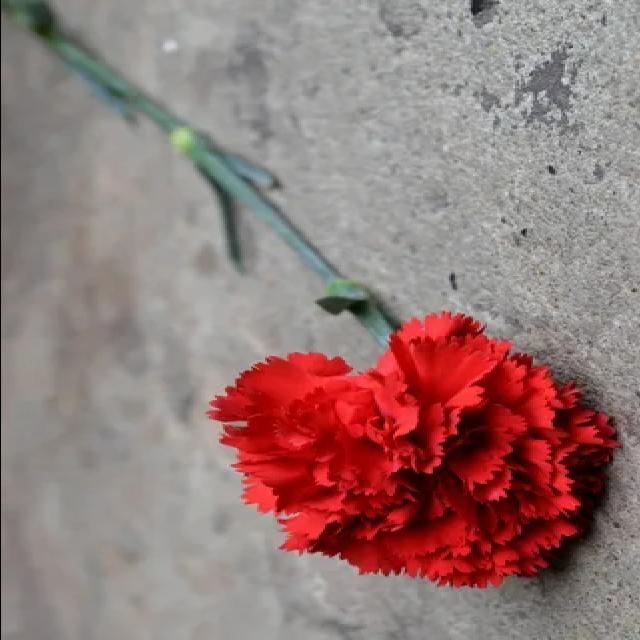carnation: (202, 300, 618, 590)
